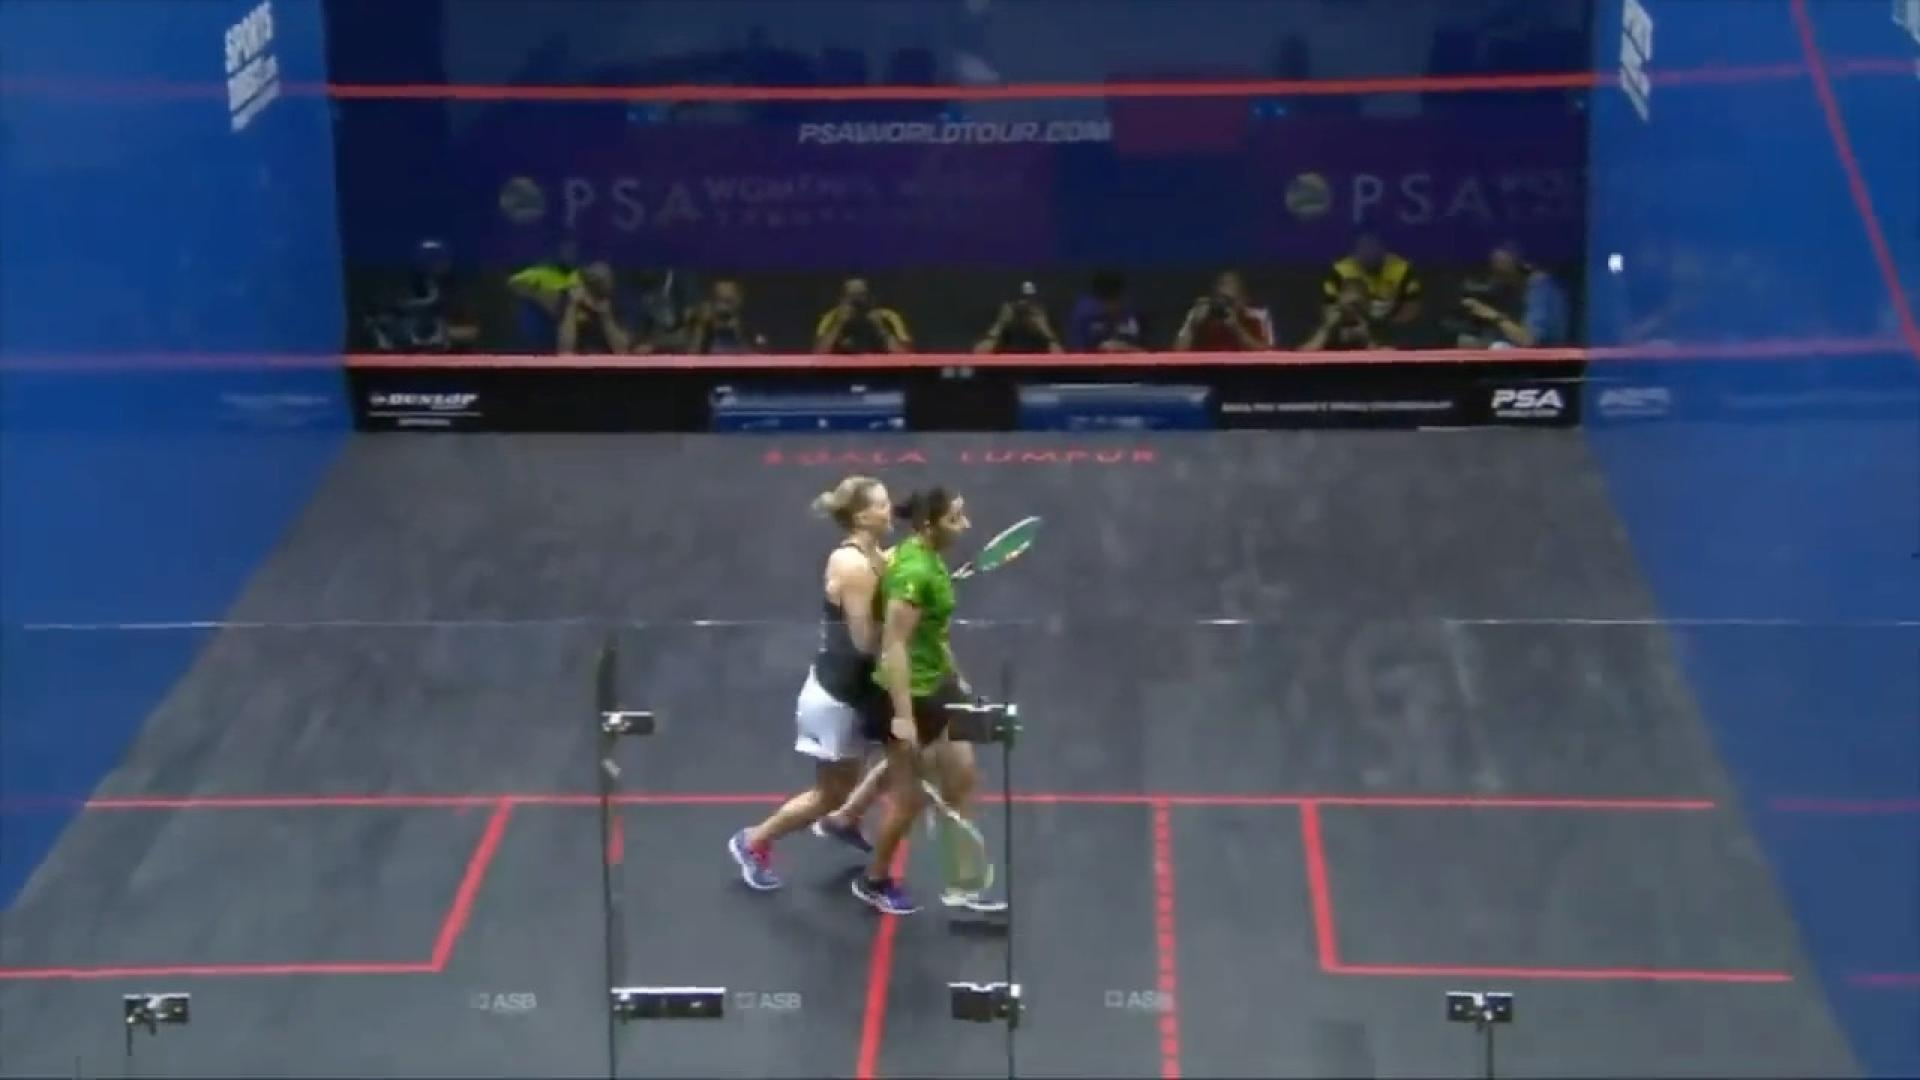Squash-Ball: (1597, 248, 1638, 290)
